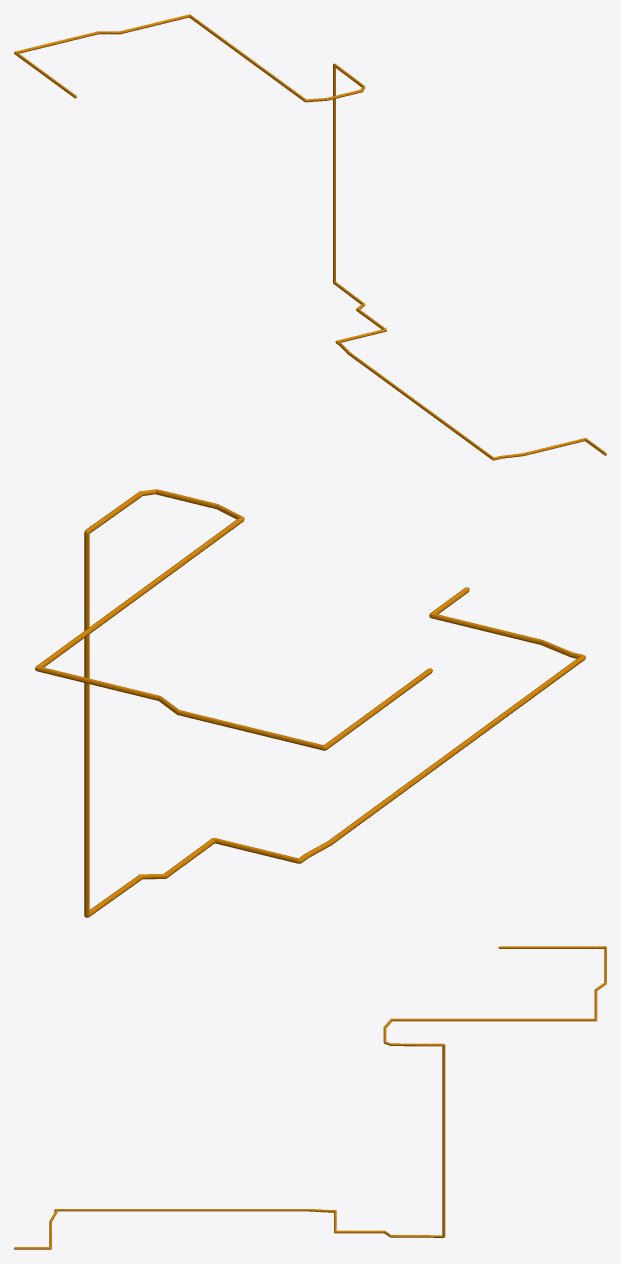
The picture shows the model from 3 angles, top to bottom: view 1: azimuth 30°, elevation 25°; view 2: azimuth 150°, elevation 25°; view 3: azimuth 270°, elevation 25°; orthographic projection. The views are drawn at different scales.
Size of the model in its own units: 1855 by 1520 by 4210.
